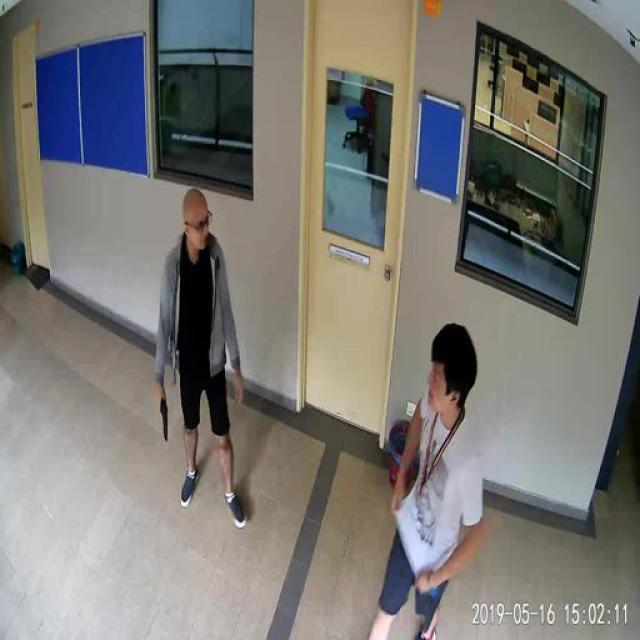weapon: (154, 389, 172, 446)
